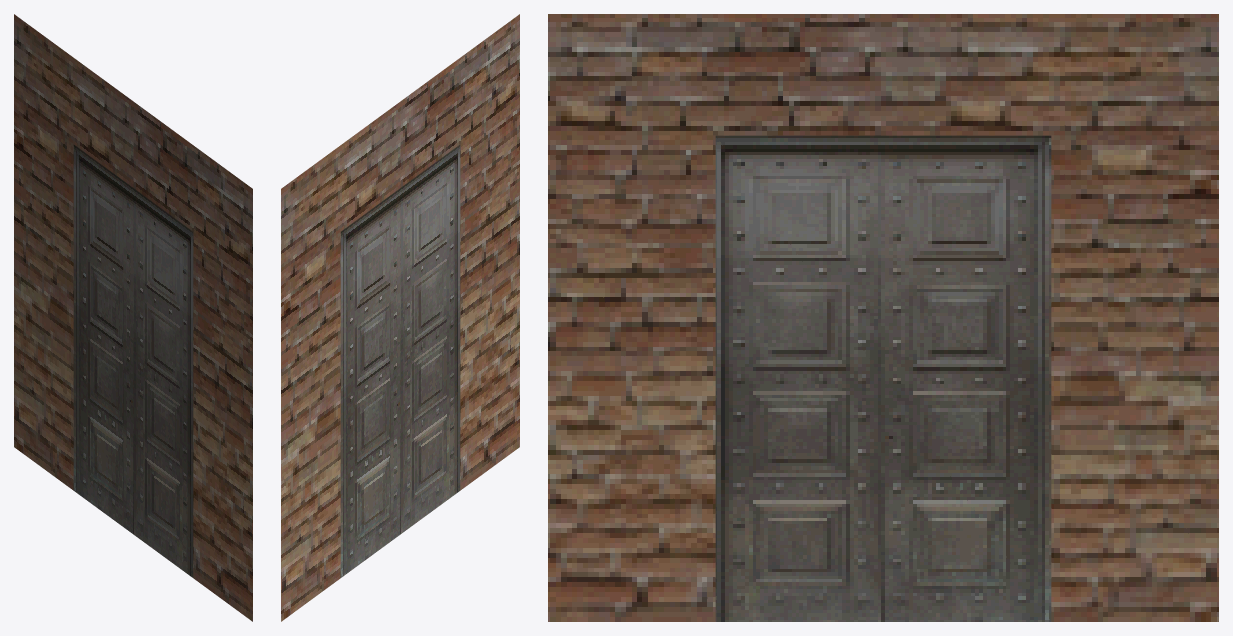
The model's file is brick_wall_metal_door.glb.
3 views of the same model, side by side, from view 1: azimuth 30°, elevation 25°; view 2: azimuth 150°, elevation 25°; view 3: azimuth 270°, elevation 25° (orthographic). The views are drawn at different scales.
Visible parts, largest first — view 1: brick_wall_metal_door; view 2: brick_wall_metal_door; view 3: brick_wall_metal_door.
Part boxes in pixels (bbox=[...]): brick_wall_metal_door: bbox=[14, 14, 252, 621]; brick_wall_metal_door: bbox=[281, 14, 519, 621]; brick_wall_metal_door: bbox=[548, 14, 1218, 621].
Size of the model in its own units: 0 by 3 by 3.
1 material, 1 textured.
